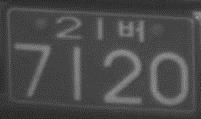0: (148, 51, 189, 107)
1: (61, 45, 93, 102), (89, 15, 110, 41)
2: (103, 47, 143, 105), (54, 14, 83, 39)
7: (14, 41, 50, 99)
버: (117, 18, 144, 43)
